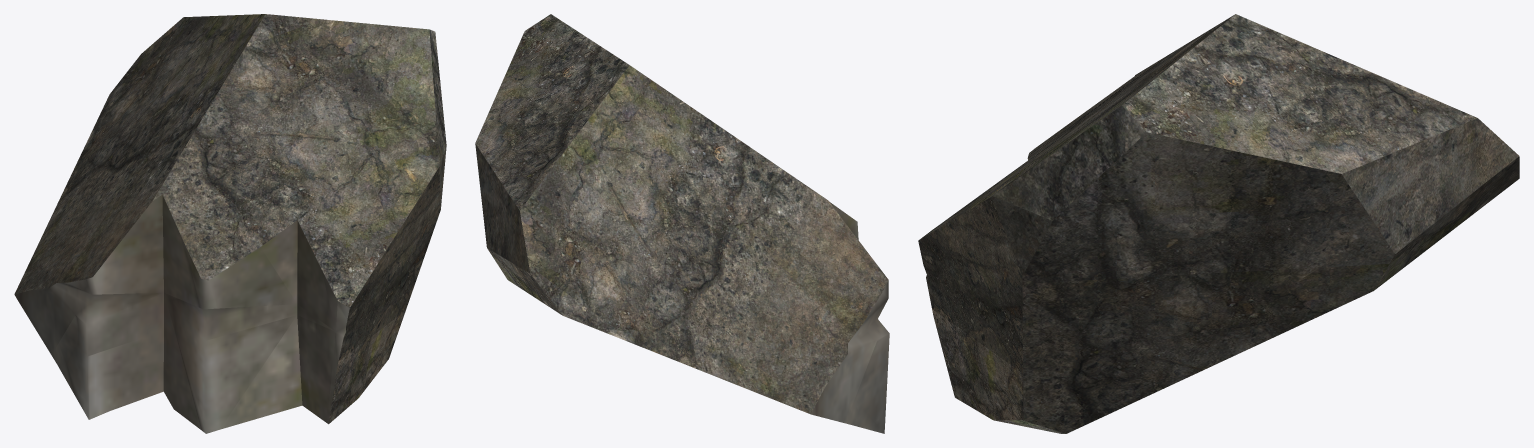
File: ColumnDamage08_7.fbx
3 renders of one model, left to right at view 1: azimuth 30°, elevation 25°; view 2: azimuth 150°, elevation 25°; view 3: azimuth 270°, elevation 25°, orthographic. The views are drawn at different scales.
Visible parts, largest first — view 1: ColumnDamage08_DM.007; view 2: ColumnDamage08_DM.007; view 3: ColumnDamage08_DM.007.
Part boxes in pixels (<box>): ColumnDamage08_DM.007: <box>14,14,446,433</box>; ColumnDamage08_DM.007: <box>475,14,889,433</box>; ColumnDamage08_DM.007: <box>918,14,1519,433</box>.
Bounding box in the file's own units: 136 × 122 × 157.
Materials: 2 (2 with a texture image).
